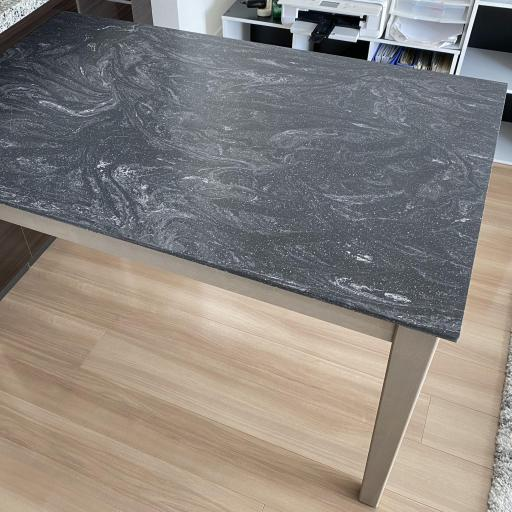table: (0, 2, 511, 455)
